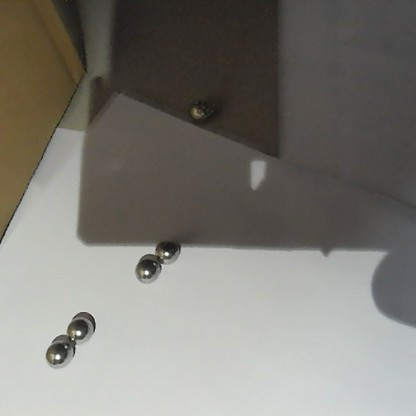ironball: (44, 338, 74, 368), (65, 315, 93, 343), (134, 254, 161, 283), (190, 95, 216, 123), (154, 239, 180, 262)
